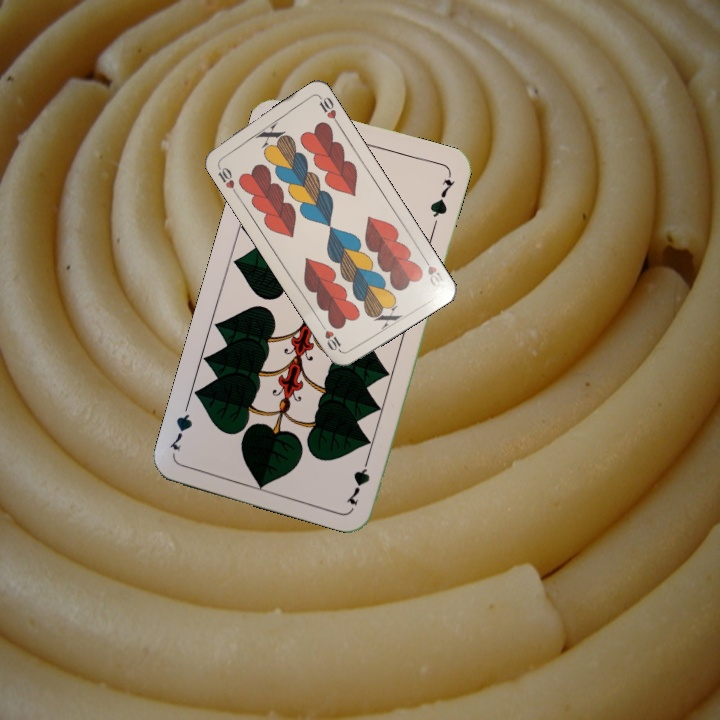G7: (342, 450, 373, 508)
H10: (418, 252, 449, 290), (213, 159, 239, 196)
